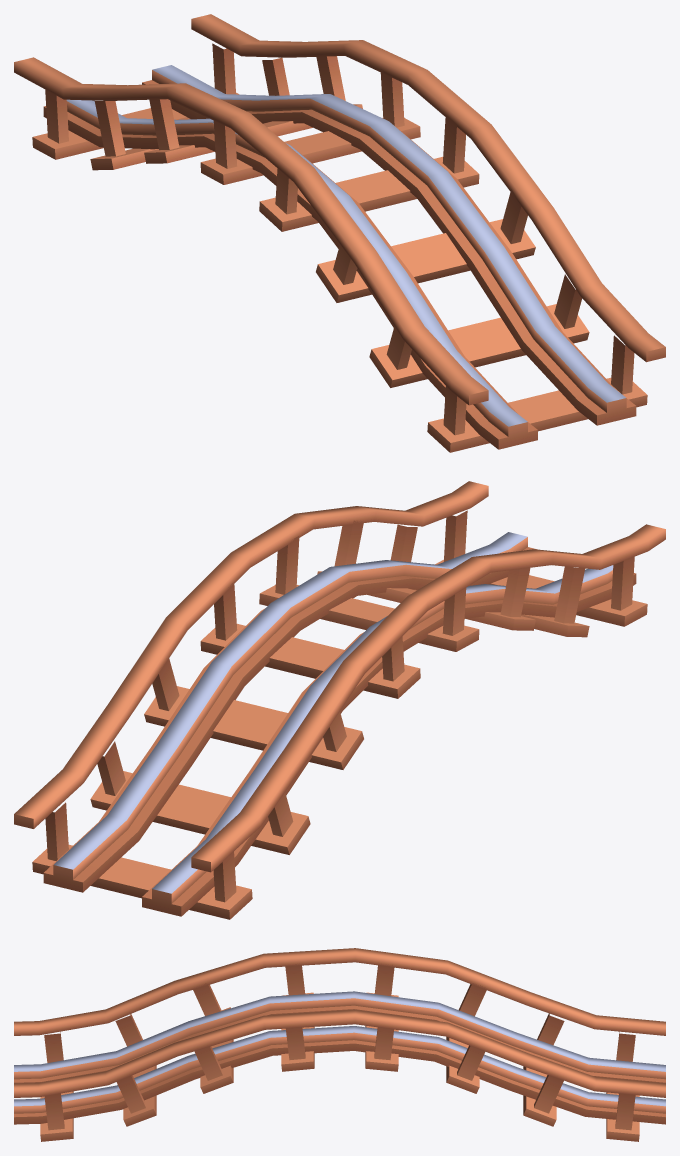
Rendered from kenney-coaster-coaster-wood-straight-bump-up.glb.
3 renders of one model, top to bottom at view 1: azimuth 30°, elevation 25°; view 2: azimuth 150°, elevation 25°; view 3: azimuth 270°, elevation 25°, orthographic. The views are drawn at different scales.
Visible parts, largest first — view 1: coaster-wood-straight-bump-up; view 2: coaster-wood-straight-bump-up; view 3: coaster-wood-straight-bump-up.
Boxes of the visible parts, <box> form: coaster-wood-straight-bump-up: <box>14,14,665,452</box>; coaster-wood-straight-bump-up: <box>14,481,665,919</box>; coaster-wood-straight-bump-up: <box>14,948,665,1141</box>.
Size of the model in its own units: 1 by 0.8457 by 4.
1 material, 1 textured.
